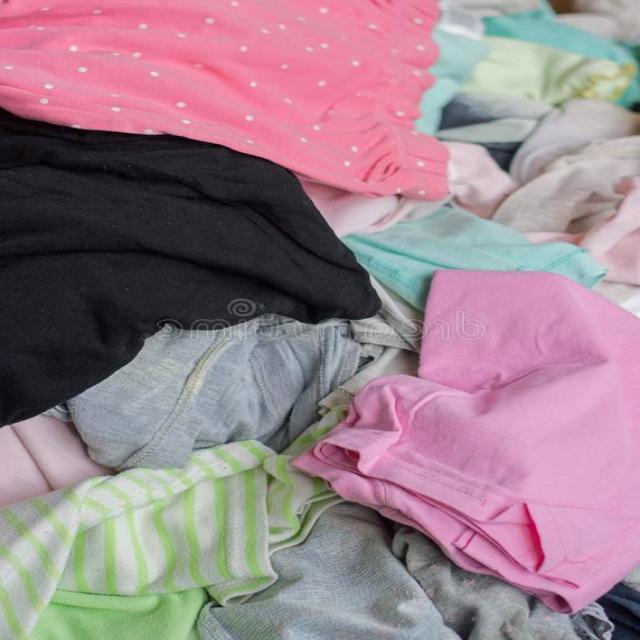clothes: (17, 10, 620, 632)
